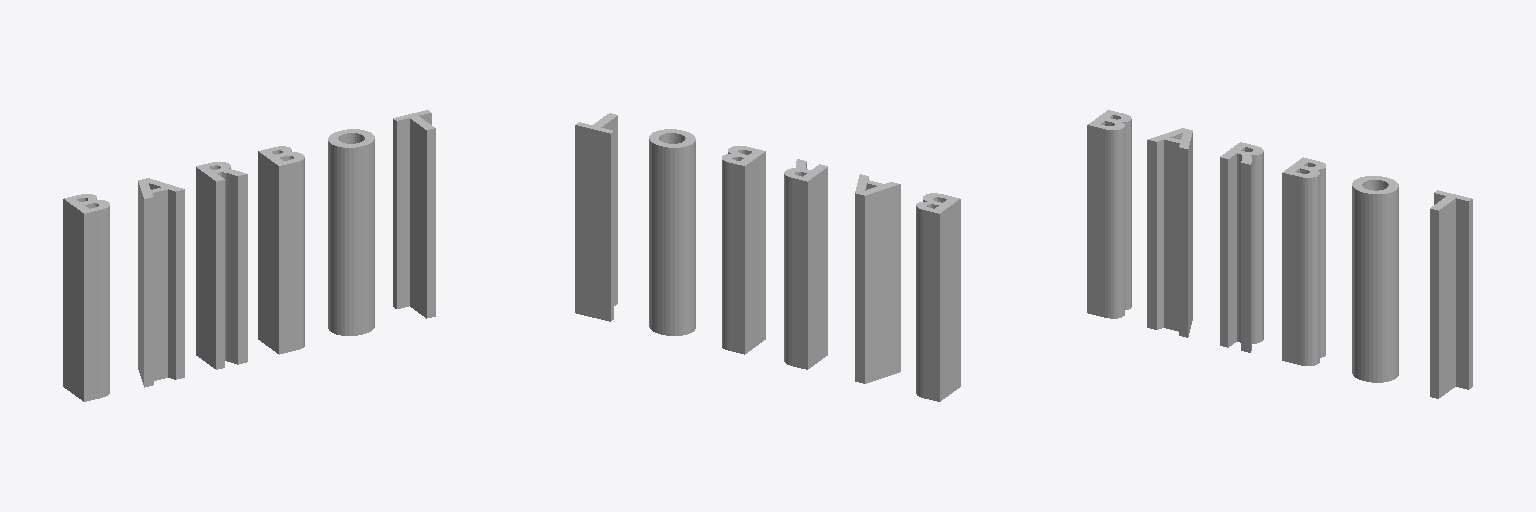
Rendered from barbotText2.obj.
3 renders of one model, left to right at view 1: azimuth 30°, elevation 25°; view 2: azimuth 150°, elevation 25°; view 3: azimuth 330°, elevation 25°, orthographic.
Size of the model in its own units: 10.12 by 5 by 1.03.